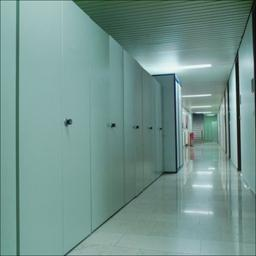Puerta: (62, 2, 92, 238), (108, 39, 123, 209), (130, 59, 143, 194), (147, 74, 155, 182)
